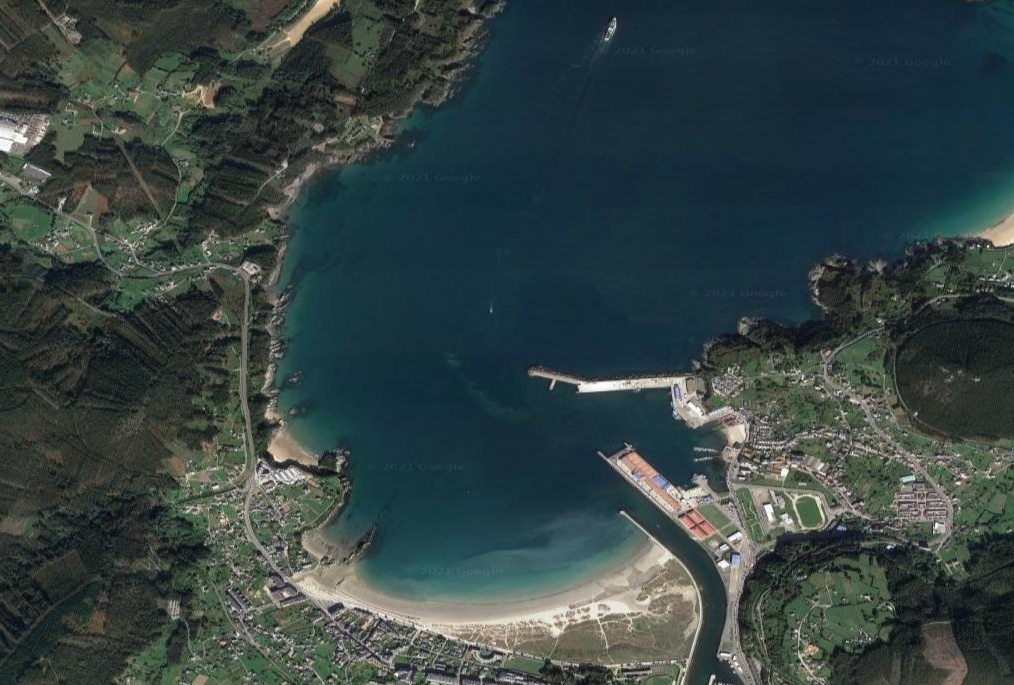harbor: (526, 353, 752, 570)
industrial: (1, 102, 48, 166)
motorway: (235, 277, 257, 428), (242, 421, 266, 555), (20, 185, 89, 227), (87, 226, 140, 280), (140, 257, 251, 280)
